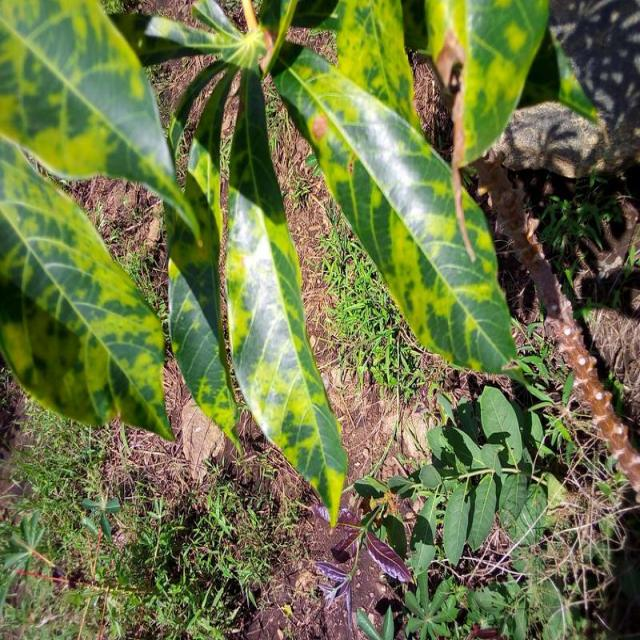cassava leaf: (266, 38, 518, 374), (0, 132, 174, 441), (0, 0, 200, 240), (224, 181, 348, 528), (424, 0, 549, 167)
